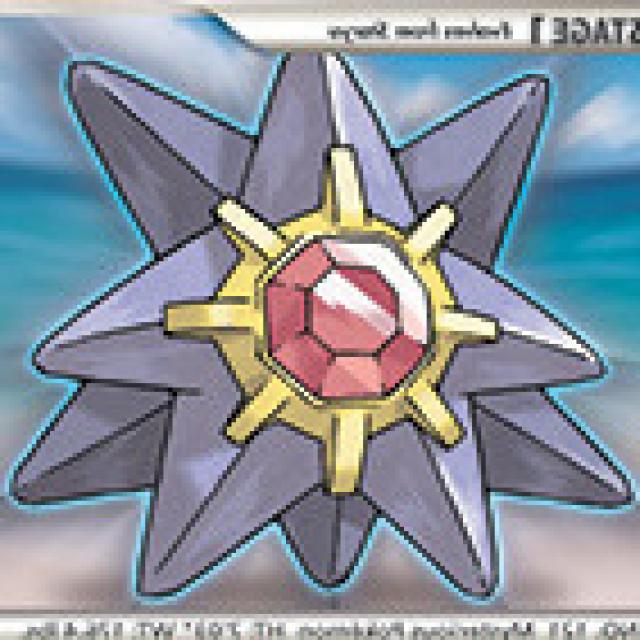Starmie: (0, 65, 640, 620)
